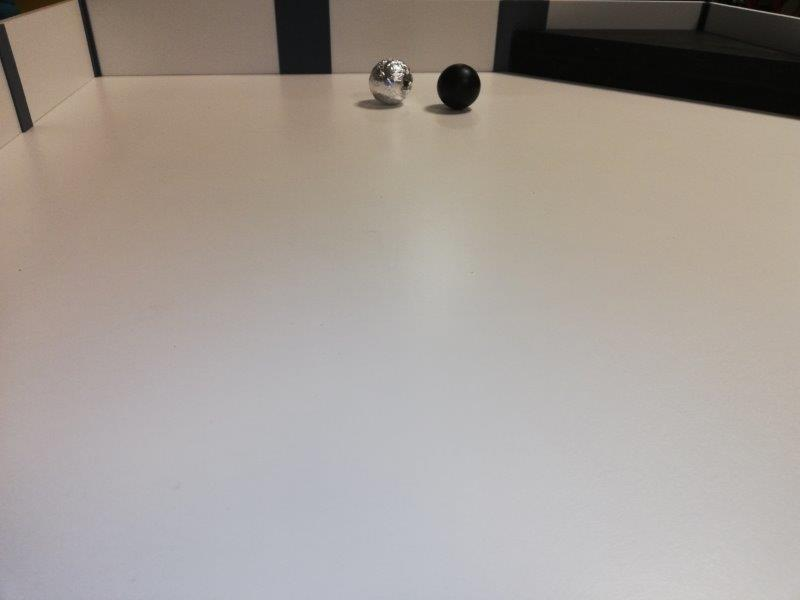bianca: (370, 58, 412, 106)
nera: (438, 61, 481, 111)
